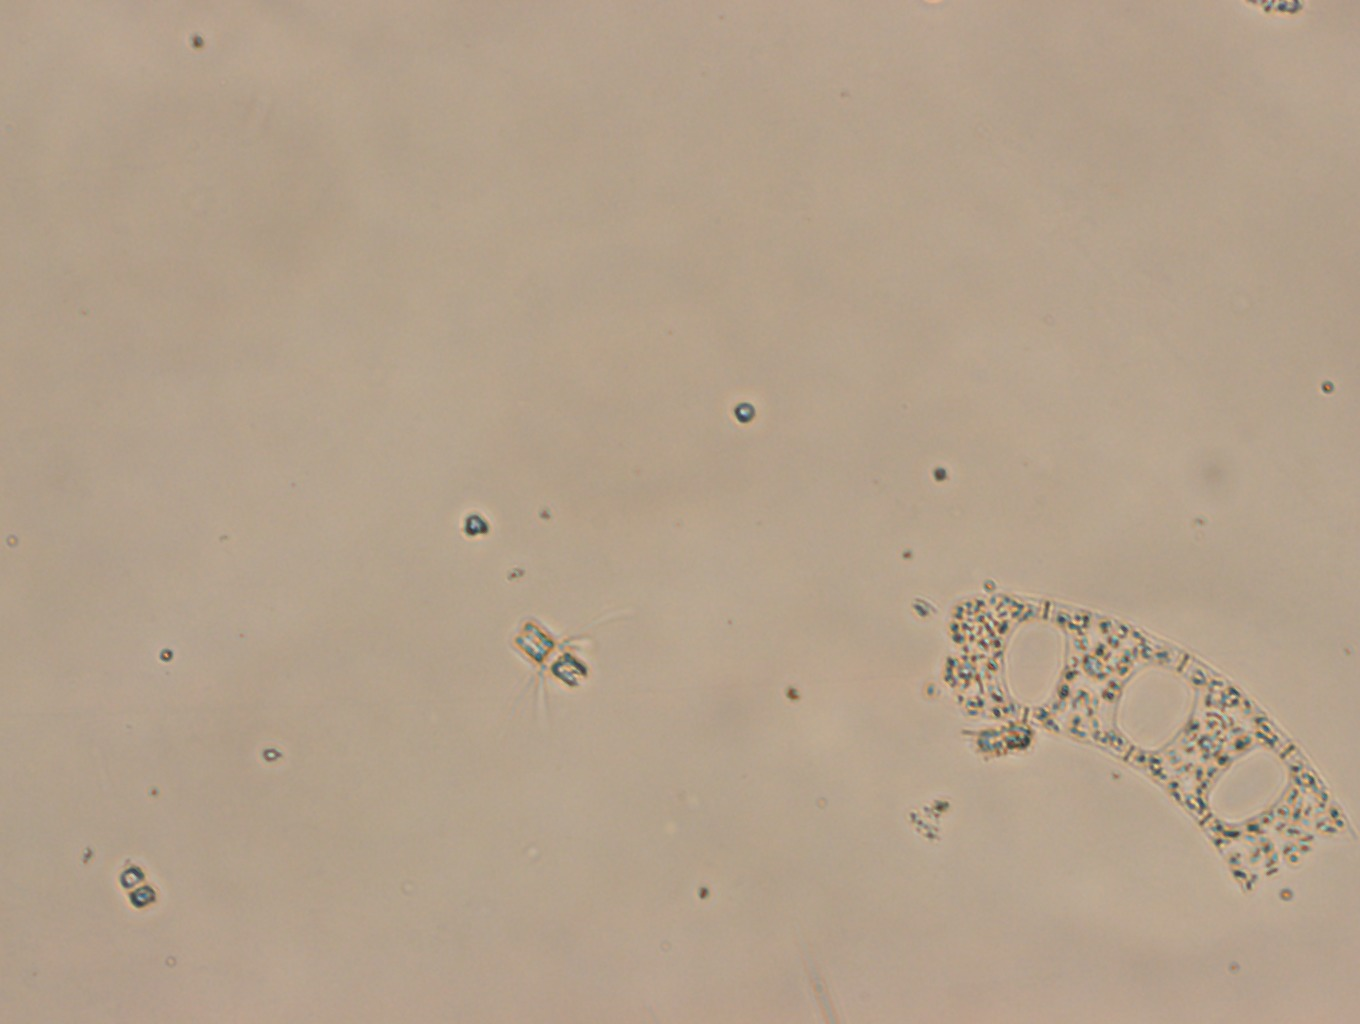chaetoceros: (509, 612, 640, 724)
eucampia: (947, 594, 1352, 893)
